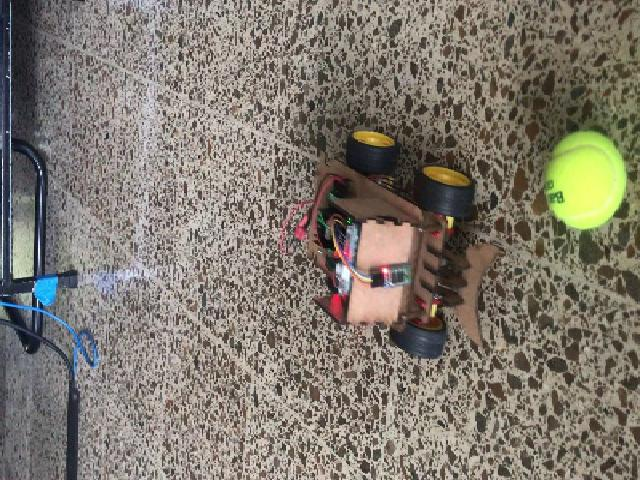Ball: (541, 128, 626, 230)
Robot: (307, 127, 499, 358)
